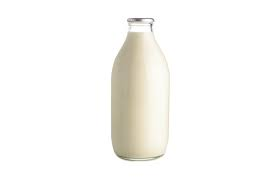milk: (107, 7, 177, 164)
